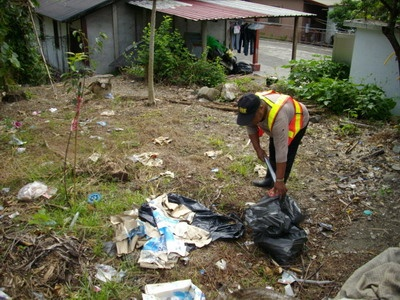plastic_bag: (139, 187, 246, 242), (246, 191, 309, 267)
